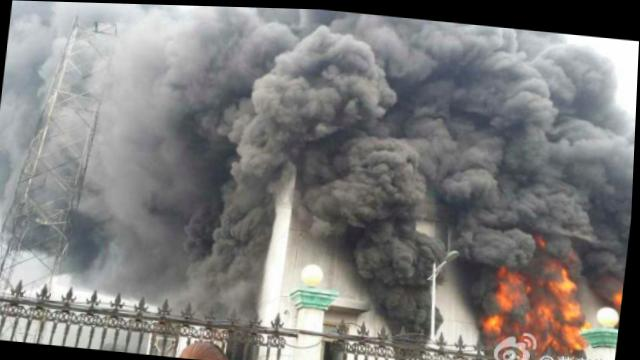fire: (551, 262, 583, 319), (495, 259, 528, 306), (550, 321, 585, 351), (522, 302, 554, 330), (482, 309, 504, 330)
